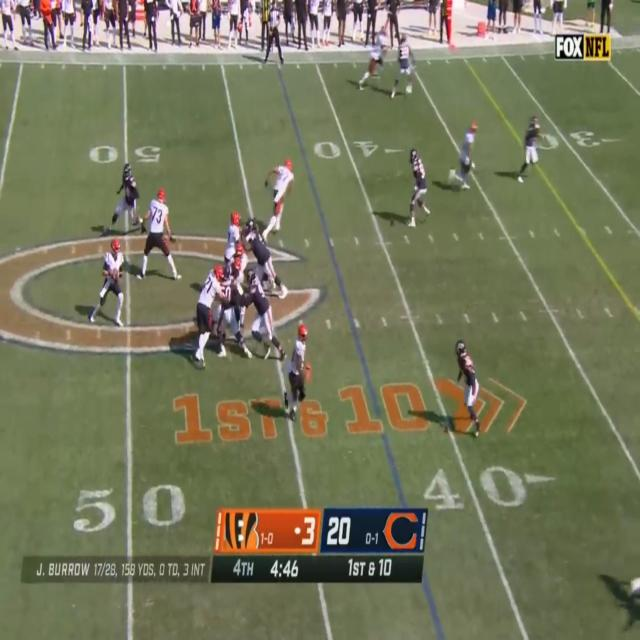Ball: (112, 268, 118, 283)
